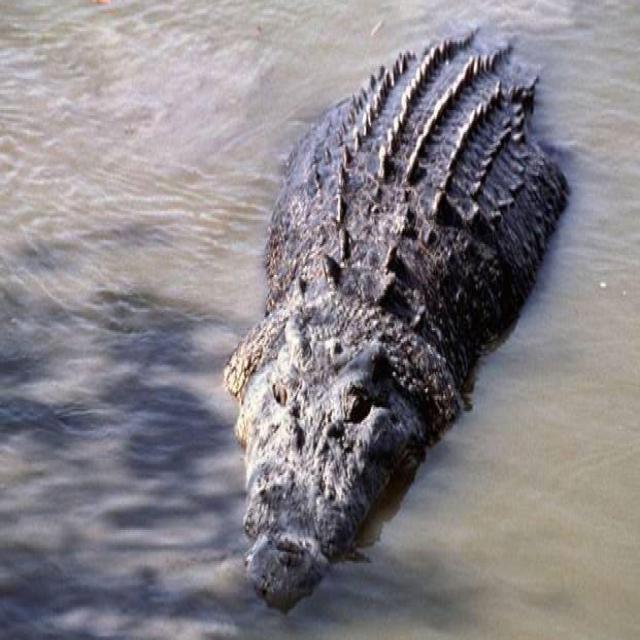crocodile: (233, 26, 570, 602)
